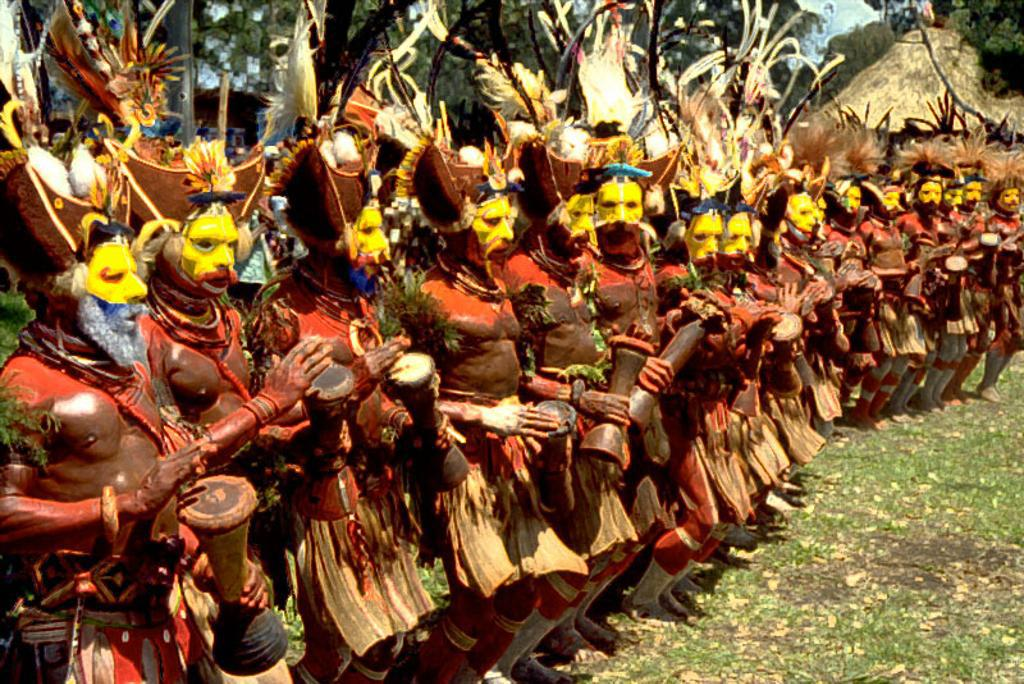face: (84, 238, 149, 334), (180, 213, 239, 299), (595, 182, 643, 255), (471, 196, 514, 263), (350, 206, 388, 266), (686, 213, 723, 268), (721, 212, 754, 271), (564, 194, 596, 253), (786, 195, 819, 246), (130, 102, 158, 144), (918, 182, 942, 212), (959, 182, 982, 212), (811, 199, 827, 236), (842, 186, 861, 217), (998, 189, 1021, 214), (883, 192, 900, 220), (942, 189, 963, 211)
